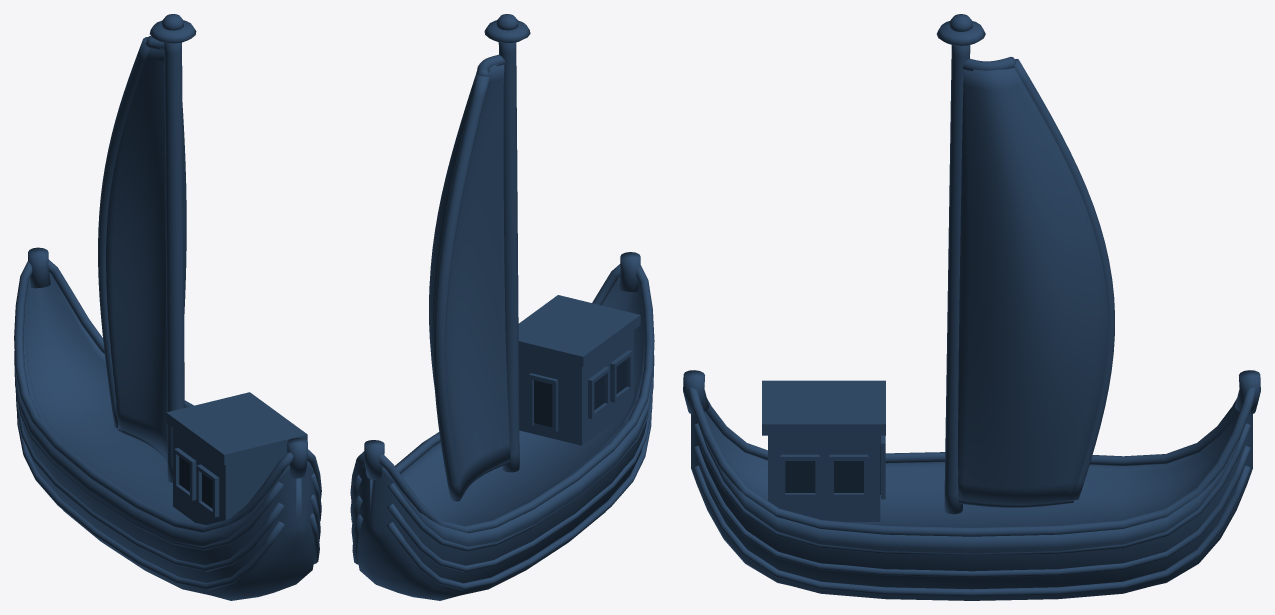
File: ship-blue.fbx
3 views of the same model, side by side, from view 1: azimuth 30°, elevation 25°; view 2: azimuth 150°, elevation 25°; view 3: azimuth 270°, elevation 25° (orthographic). The views are drawn at different scales.
Visible parts, largest first — view 1: Ship_Plastic_Sculpt, Ship_Window_Recesses; view 2: Ship_Plastic_Sculpt, Ship_Window_Recesses; view 3: Ship_Plastic_Sculpt, Ship_Window_Recesses.
Part boxes in pixels (box(x1,y1,x2,y2)): Ship_Plastic_Sculpt: box(14, 14, 321, 600); Ship_Window_Recesses: box(179, 457, 212, 508); Ship_Plastic_Sculpt: box(350, 14, 654, 600); Ship_Window_Recesses: box(534, 359, 626, 427); Ship_Plastic_Sculpt: box(683, 14, 1260, 600); Ship_Window_Recesses: box(785, 435, 880, 494).
Bounding box in the file's own units: 0.009 × 0.028 × 0.026.
